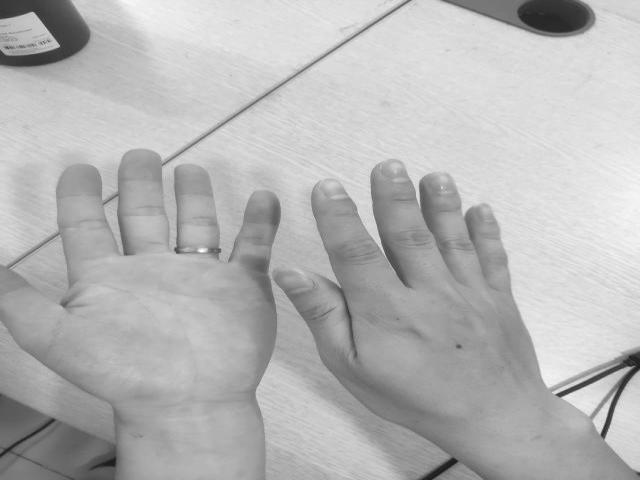not-gloved: (0, 145, 278, 408), (278, 156, 545, 412)
